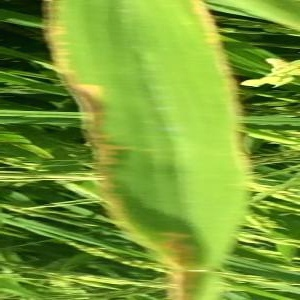Leaf_Blast: (43, 4, 250, 291)
